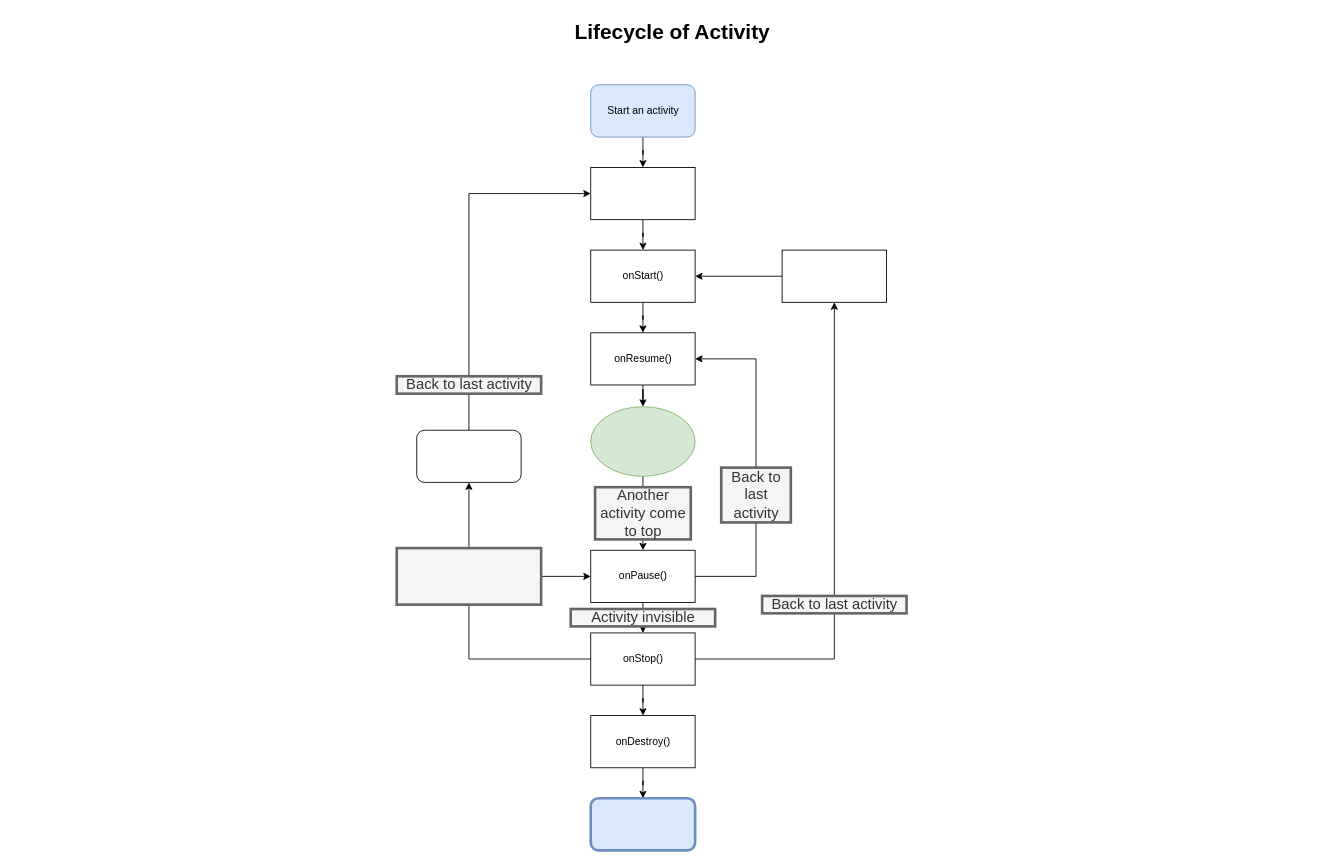
The diagram is 1343 pixels wide and 867 high, and some of its shapes have lost their labels. The shapes that lost their labels are listed below. From the top down, each one's centre as x and y in pixels, then its label:
At (x=642, y=193): "onCreate()".
At (x=834, y=275): "onRestart()".
At (x=468, y=455): "Kill Activity".
At (x=642, y=441): "Activity Running".
At (x=468, y=576): "Another activity with higher priority needs RAM".
At (x=642, y=823): "Activity Killers".
